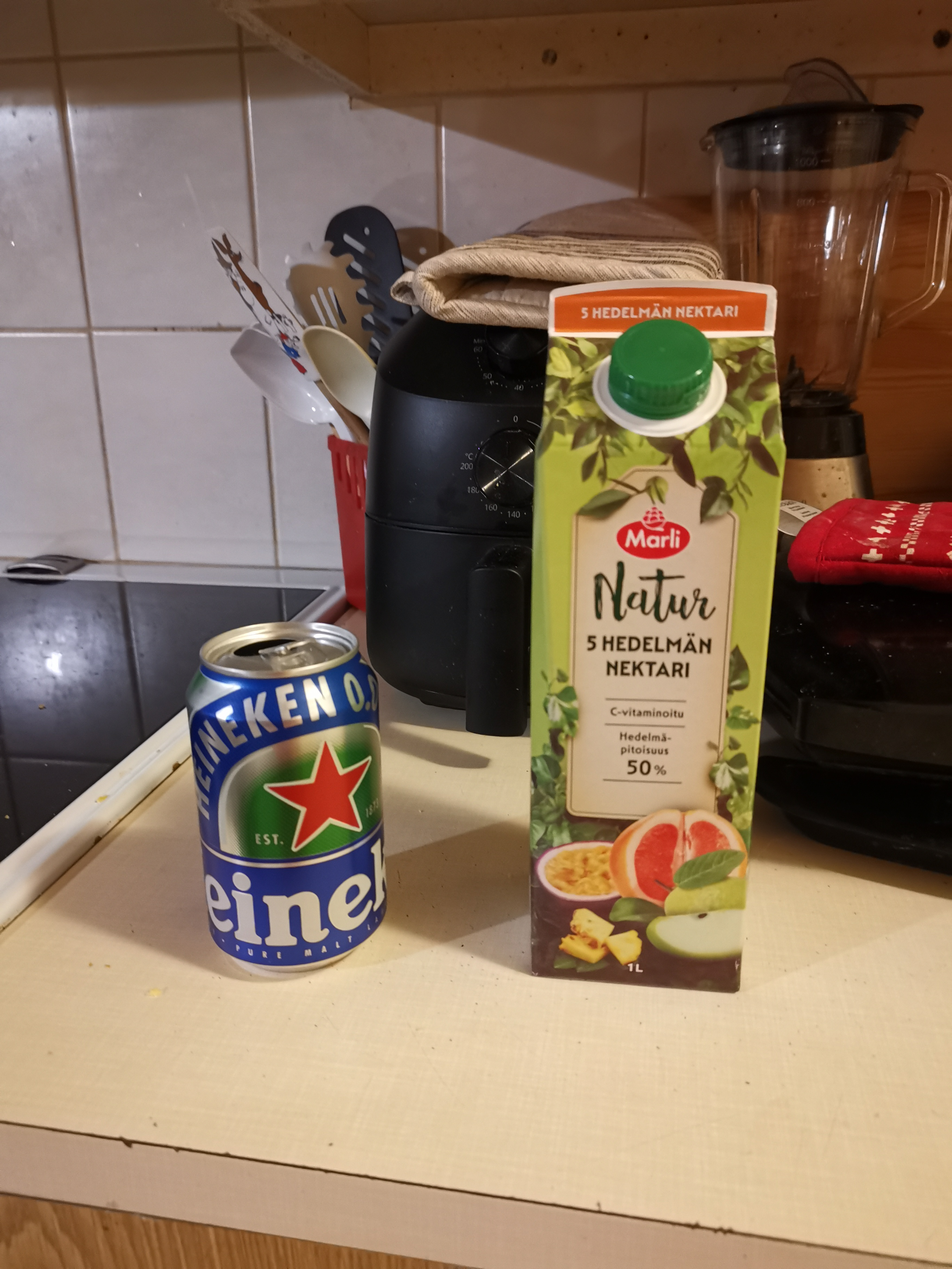Dryckeskartong: (526, 275, 791, 996)
Pantburk: (180, 618, 391, 976)
